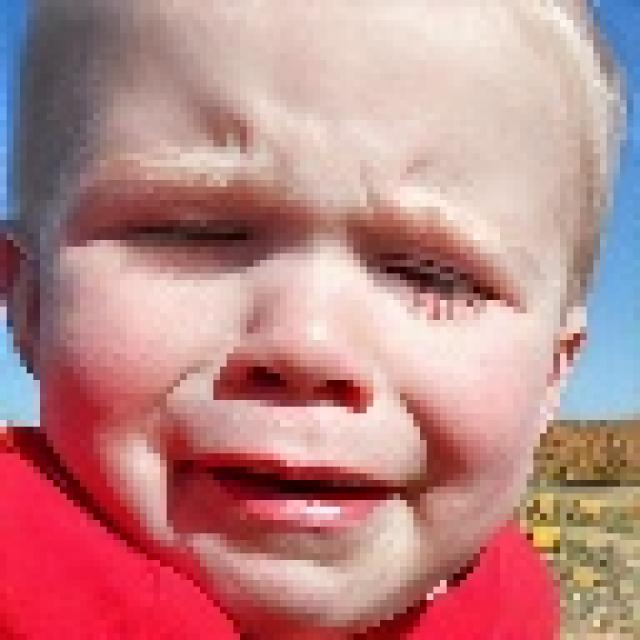Sad: (0, 66, 574, 606)
